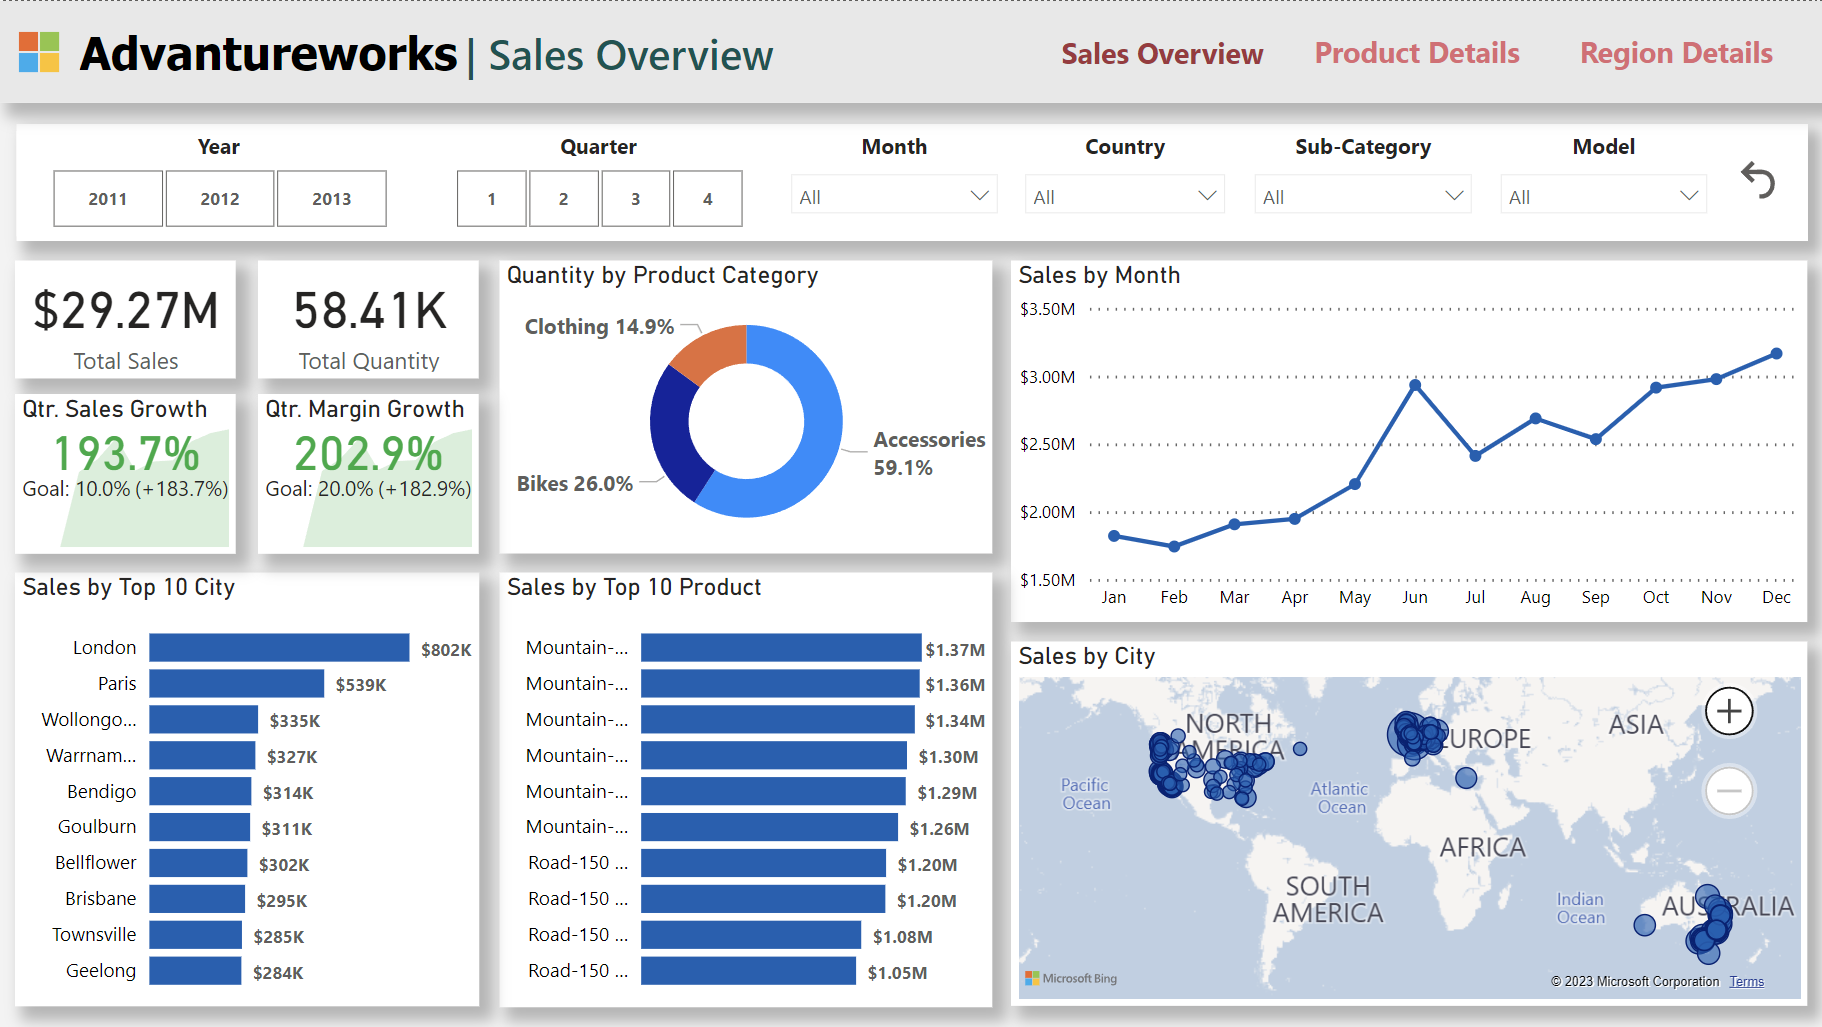

What the dashboard file says about the page in this screenshot:
{"tool":"powerbi","page":{"name":"Overview","canvas":[1280,720],"ordinal":0},"visuals":[{"type":"shape","box":[11.6,86.2,1255,82],"z":0},{"type":"card","fields":{"Values":["FactInternetSales.InternetTotalSales"]},"box":[10.9,182.1,154.8,82.9],"z":1000},{"type":"card","fields":{"Values":["FactInternetSales.InternetTotalUnits"]},"box":[181,182.1,154.8,82.9],"z":2000},{"type":"slicer","title":"Quarter","fields":{"Values":["DimDate.CalendarQuarter"]},"box":[294.4,91.1,250,73.3],"z":3000},{"type":"slicer","title":"Year","fields":{"Values":["DimDate.CalendarYear"]},"box":[11.1,91.1,283.3,73.3],"z":4000},{"type":"donutChart","title":"Quantity by Product Category","fields":{"Series":["DimProductCategory.EnglishProductCategoryName"],"Y":["FactInternetSales.InternetTotalUnits"]},"box":[350,182.2,345.6,205.6],"z":5000},{"type":"lineChart","title":"Sales by Month","fields":{"Y":["FactInternetSales.InternetTotalSales"],"Category":["DimDate.Month_Short"]},"box":[708.9,182.2,558,253.3],"z":6000},{"type":"clusteredBarChart","title":"Sales by Top 10 Product","fields":{"Y":["FactInternetSales.InternetTotalSales"],"Category":["DimProduct.EnglishProductName"]},"box":[350,400,345.6,304.4],"z":7000},{"type":"map","fields":{"Size":["FactInternetSales.InternetTotalSales"],"Category":["DimGeography.City"]},"box":[708.9,448.9,558,255.6],"z":8000},{"type":"clusteredBarChart","title":"Sales by Top 10 City","fields":{"Y":["FactInternetSales.InternetTotalSales"],"Category":["DimGeography.City"]},"box":[10.6,400.5,325.3,304.1],"z":9000},{"type":"kpi","title":"Qtr. Sales Growth","fields":{"Indicator":["FactInternetSales.InternetCurrentQuarterSalesPerformance"],"Goal":["FactInternetSales._InternetCurrentQuarterSalesPerformance Goal"],"TrendLine":["DimDate.Calender.MonthCalender"]},"box":[10.6,275.5,154.7,112.3],"z":10000},{"type":"kpi","title":"Qtr. Margin Growth","fields":{"Indicator":["FactInternetSales.InternetCurrentQuarterMarginPerformance"],"Goal":["FactInternetSales._InternetCurrentQuarterMarginPerformance Goal"],"TrendLine":["DimDate.Calender.MonthCalender"]},"box":[181.2,275.5,154.7,112.3],"z":11000},{"type":"slicer","title":"Sub-Category","fields":{"Values":["DimProductSubcategory.EnglishProductSubcategoryName"]},"box":[868.9,91.1,172.2,74.4],"z":12000},{"type":"slicer","title":"Month","fields":{"Values":["DimDate.EnglishMonthName"]},"box":[544.4,91.1,164.4,74.4],"z":13000},{"type":"slicer","title":"Country","fields":{"Values":["DimSalesTerritory.SalesTerritoryCountry"]},"box":[708.9,91.1,160,74.4],"z":14000},{"type":"slicer","title":"Model","fields":{"Values":["DimProduct.Category.Model"]},"box":[1041.1,91.1,164.4,74.4],"z":15000},{"type":"actionButton","box":[1214,105.1,35.7,39.9],"z":16000},{"type":"shape","box":[0,0,1280,71.1],"z":17000},{"type":"image","box":[0,8.4,54.7,54.7],"z":18000},{"type":"shape","box":[55.7,0,270.1,71.5],"z":19000},{"type":"shape","box":[325.8,0,252.3,71.5],"z":20000},{"type":"actionButton","box":[728.4,0,172.4,71.5],"z":21000},{"type":"actionButton","box":[900.7,0,184.2,71.1],"z":22000},{"type":"actionButton","box":[1085,0,179.9,71.1],"z":23000}]}

Visuals, with their boxes in screenshot pixels (x1, y1, x2, y2), scaled from the page's 1280x720 canvas onto the 1822x1027 screenshot:
shape: bbox=(17, 123, 1803, 240)
card - FactInternetSales.InternetTotalSales: bbox=(16, 260, 236, 378)
card - FactInternetSales.InternetTotalUnits: bbox=(258, 260, 478, 378)
"Quarter" slicer: bbox=(419, 130, 775, 234)
"Year" slicer: bbox=(16, 130, 419, 234)
"Quantity by Product Category" donutChart: bbox=(498, 260, 990, 553)
"Sales by Month" lineChart: bbox=(1009, 260, 1803, 621)
"Sales by Top 10 Product" clusteredBarChart: bbox=(498, 571, 990, 1005)
map - FactInternetSales.InternetTotalSales x DimGeography.City: bbox=(1009, 640, 1803, 1005)
"Sales by Top 10 City" clusteredBarChart: bbox=(15, 571, 478, 1005)
"Qtr. Sales Growth" kpi: bbox=(15, 393, 235, 553)
"Qtr. Margin Growth" kpi: bbox=(258, 393, 478, 553)
"Sub-Category" slicer: bbox=(1237, 130, 1482, 236)
"Month" slicer: bbox=(775, 130, 1009, 236)
"Country" slicer: bbox=(1009, 130, 1237, 236)
"Model" slicer: bbox=(1482, 130, 1716, 236)
actionButton: bbox=(1728, 150, 1779, 207)
shape: bbox=(0, 0, 1821, 101)
image: bbox=(0, 12, 78, 90)
shape: bbox=(79, 0, 464, 102)
shape: bbox=(464, 0, 823, 102)
actionButton: bbox=(1037, 0, 1282, 102)
actionButton: bbox=(1282, 0, 1544, 101)
actionButton: bbox=(1544, 0, 1801, 101)
